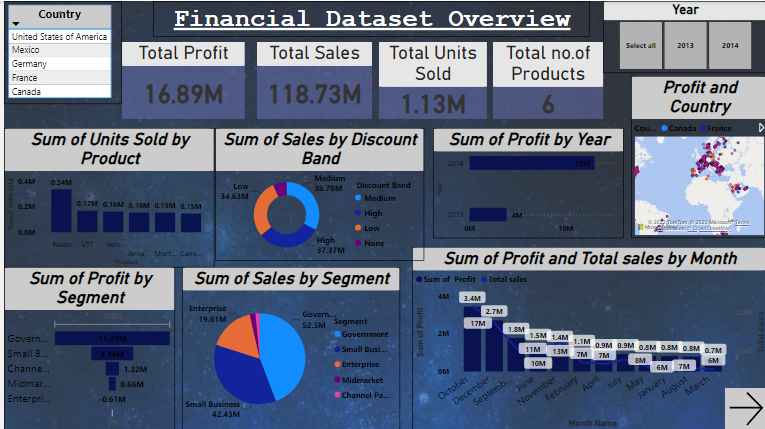

What the dashboard file says about the page in this screenshot:
{"tool":"powerbi","page":{"name":"Page 1","canvas":[1280,720],"ordinal":0},"visuals":[{"type":"card","title":"Total Profit","fields":{"Values":["Financial Sample xlsx - Sheet1.Total profit"]},"box":[182.9,77.2,206.3,130.9],"z":0},{"type":"card","title":"Total Sales","fields":{"Values":["Financial Sample xlsx - Sheet1.Total sales"]},"box":[406,78.8,211.4,129.2],"z":1000},{"type":"card","title":"Total Units Sold","fields":{"Values":["Financial Sample xlsx - Sheet1.Total units sold"]},"box":[640.8,79.1,181.7,129.5],"z":2000},{"type":"card","title":"Total no.of Products","fields":{"Values":["Financial Sample xlsx - Sheet1.Total no.of products"]},"box":[834.3,79.1,183.3,129.5],"z":3000},{"type":"clusteredColumnChart","fields":{"Category":["Financial Sample xlsx - Sheet1. Product "],"Y":["Sum(Financial Sample xlsx - Sheet1.Units Sold)"]},"box":[0,213.6,353.2,233.8],"z":4000},{"type":"pieChart","fields":{"Category":["Financial Sample xlsx - Sheet1.Segment"],"Y":["Sum(Financial Sample xlsx - Sheet1.  Sales )"]},"box":[303.6,474.8,369.1,244.9],"z":5000},{"type":"lineClusteredColumnComboChart","title":"Sum of  Profit  and Total sales by  Month ","fields":{"Category":["Financial Sample xlsx - Sheet1. Month Name "],"Y":["Sum(Financial Sample xlsx - Sheet1. Profit )"],"Y2":["Financial Sample xlsx - Sheet1.Total sales"]},"box":[684.5,409.3,595.5,310.4],"z":6000},{"type":"funnel","fields":{"Category":["Financial Sample xlsx - Sheet1.Segment"],"Y":["Sum(Financial Sample xlsx - Sheet1. Profit )"]},"box":[0,474.8,286.9,244.9],"z":7000},{"type":"donutChart","fields":{"Y":["Sum(Financial Sample xlsx - Sheet1.  Sales )"],"Category":["Financial Sample xlsx - Sheet1. Discount Band ","Financial Sample xlsx - Sheet1.Country"]},"box":[365.7,218.1,350.6,223.1],"z":8000},{"type":"textbox","box":[250,0,733.1,60.4],"z":9000},{"type":"slicer","title":"Year","fields":{"Values":["Financial Sample xlsx - Sheet1.Year"]},"box":[1004.9,0,275.1,120.8],"z":10000},{"type":"tableEx","fields":{"Values":["Financial Sample xlsx - Sheet1.Country"]},"box":[0,0,198,172.8],"z":11000},{"type":"barChart","fields":{"Category":["Financial Sample xlsx - Sheet1.Year"],"Y":["Sum(Financial Sample xlsx - Sheet1. Profit )"]},"box":[731.4,224.8,320.4,184.5],"z":12000},{"type":"map","fields":{"Series":["Financial Sample xlsx - Sheet1.Country"],"Category":["Financial Sample xlsx - Sheet1. Profit "]},"box":[1051.8,125.8,228.2,283.5],"z":13000},{"type":"actionButton","box":[87.2,0,13.4,40.3],"z":14000},{"type":"actionButton","box":[1209.5,649.2,70.5,70.5],"z":15000}]}

Visuals, with their boxes in screenshot pixels (x1, y1, x2, y2), scaled from the page's 1280x720 canvas onto the 765x429 screenshot:
"Total Profit" card: 109/46/233/124
"Total Sales" card: 243/47/369/124
"Total Units Sold" card: 383/47/492/124
"Total no.of Products" card: 499/47/608/124
clusteredColumnChart - Financial Sample xlsx - Sheet1. Product  x Sum(Financial Sample xlsx - Sheet1.Units Sold): 0/127/211/267
pieChart - Financial Sample xlsx - Sheet1.Segment x Sum(Financial Sample xlsx - Sheet1.  Sales ): 181/283/402/428
"Sum of  Profit  and Total sales by  Month " lineClusteredColumnComboChart: 409/244/764/428
funnel - Financial Sample xlsx - Sheet1.Segment x Sum(Financial Sample xlsx - Sheet1. Profit ): 0/283/171/428
donutChart - Sum(Financial Sample xlsx - Sheet1.  Sales ) x Financial Sample xlsx - Sheet1. Discount Band : 219/130/428/263
textbox: 149/0/588/36
"Year" slicer: 601/0/764/72
tableEx - Financial Sample xlsx - Sheet1.Country: 0/0/118/103
barChart - Financial Sample xlsx - Sheet1.Year x Sum(Financial Sample xlsx - Sheet1. Profit ): 437/134/629/244
map - Financial Sample xlsx - Sheet1.Country x Financial Sample xlsx - Sheet1. Profit : 629/75/764/244
actionButton: 52/0/60/24
actionButton: 723/387/764/428
